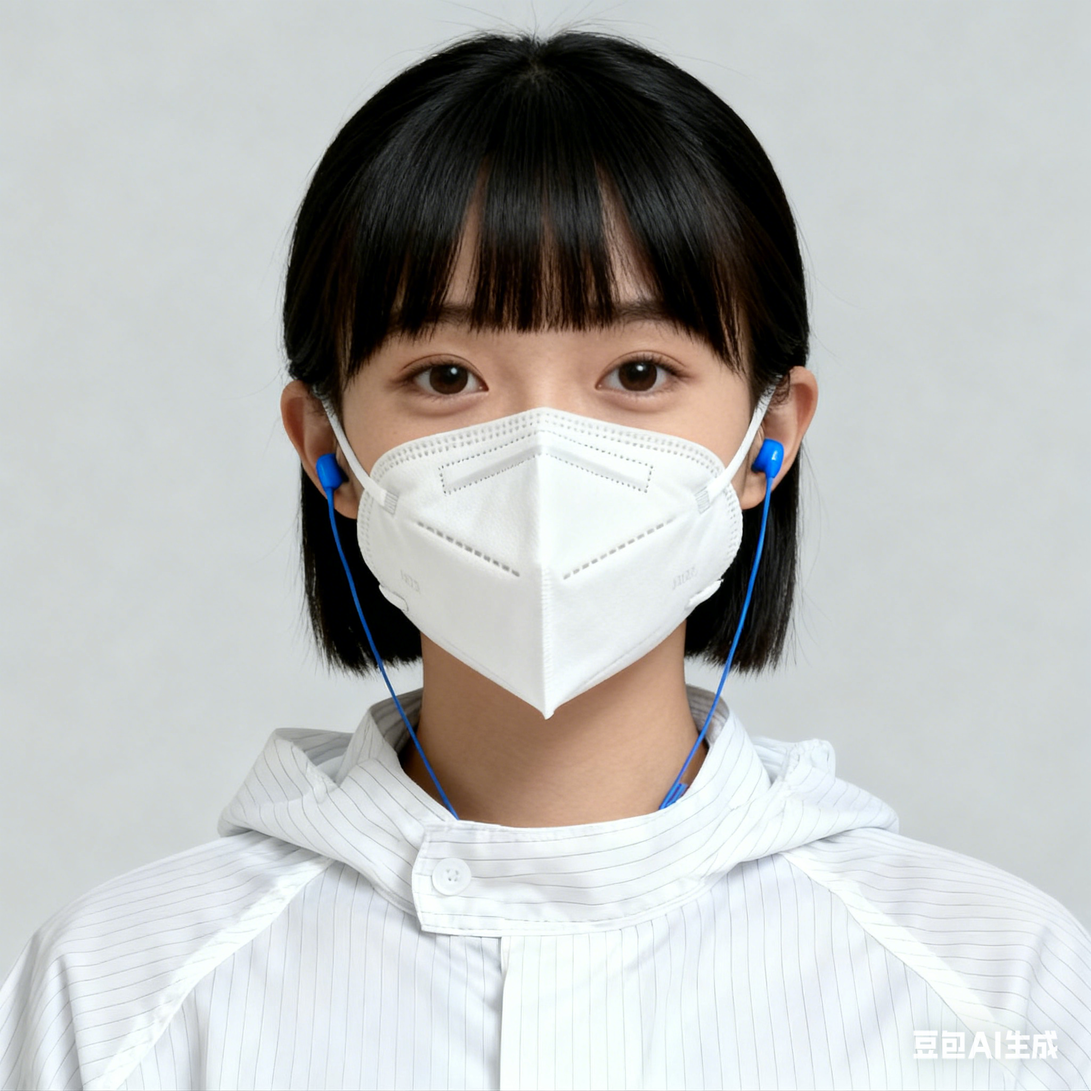MASK: (359, 407, 744, 710)
